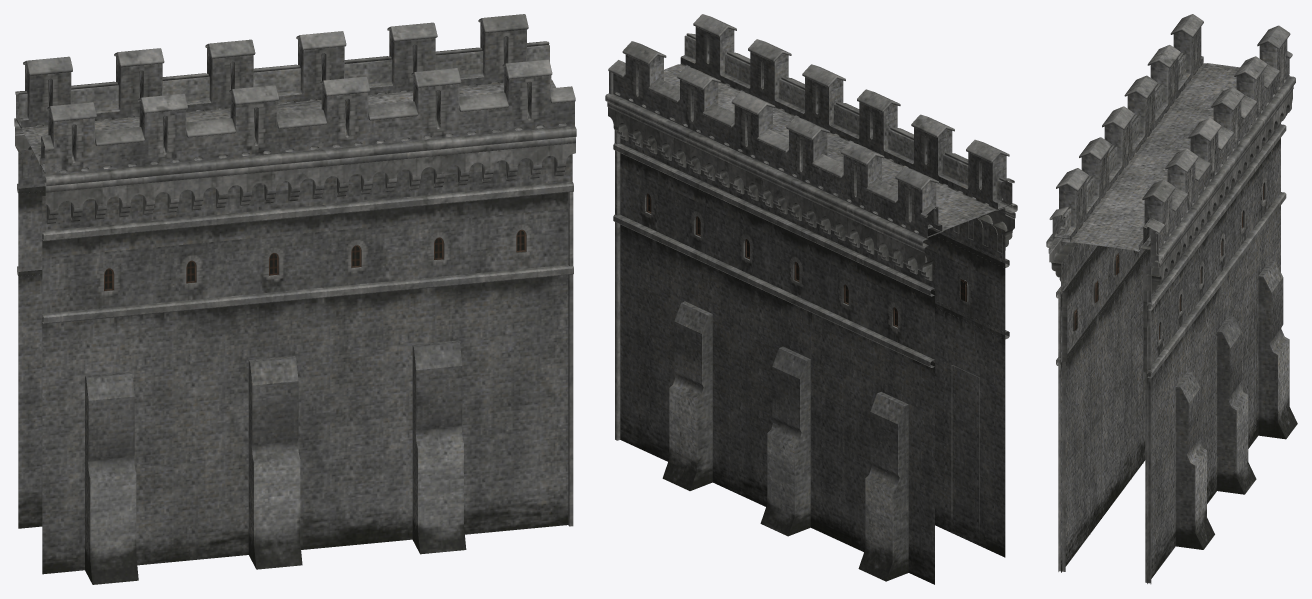
File: Castle_Wall_B_Straight04.fbx
3 views of the same model, side by side, from view 1: azimuth 30°, elevation 25°; view 2: azimuth 150°, elevation 25°; view 3: azimuth 270°, elevation 25° (orthographic). The views are drawn at different scales.
Visible parts, largest first — view 1: Castle_Wall_B_Straight.004; view 2: Castle_Wall_B_Straight.004; view 3: Castle_Wall_B_Straight.004.
Part boxes in pixels (<box>): Castle_Wall_B_Straight.004: <box>14,14,576,584</box>; Castle_Wall_B_Straight.004: <box>605,14,1017,584</box>; Castle_Wall_B_Straight.004: <box>1046,14,1297,584</box>.
Size of the model in its own units: 1510 by 1383 by 824.
